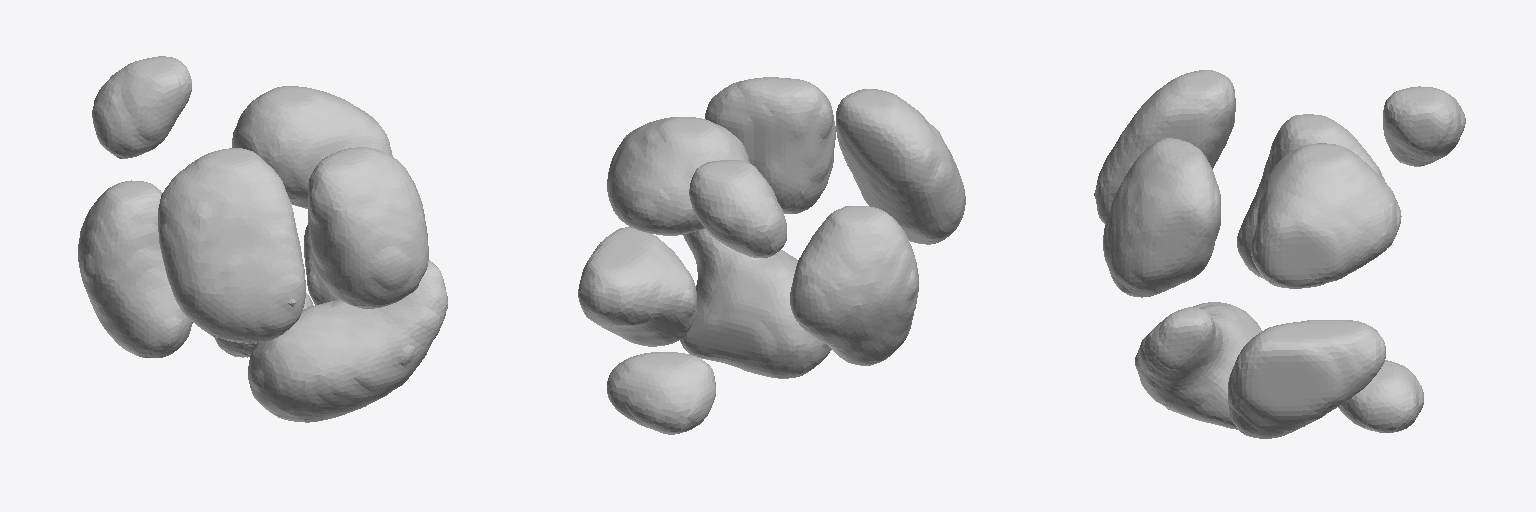
Rendered from iso-crop-mosaic_9.obj.
3 views of the same model, side by side, from view 1: azimuth 30°, elevation 25°; view 2: azimuth 150°, elevation 25°; view 3: azimuth 270°, elevation 25° (orthographic).
Visible parts, largest first — view 1: 5, 3, 2, 1, 7, 6, 4, 8; view 2: 1, 3, 5, 2, 4, 7, 8, 6; view 3: 7, 2, 4, 3, 5, 6, 8, 1.
Boxes of the visible parts, box(x1,y1,x2,y2) form: 5: box(158, 148, 305, 343); 3: box(248, 260, 447, 422); 2: box(308, 147, 428, 308); 1: box(78, 180, 192, 357); 7: box(232, 86, 392, 208); 6: box(92, 56, 191, 158); 4: box(304, 223, 338, 304); 8: box(214, 293, 313, 357); 1: box(790, 206, 918, 365); 3: box(680, 229, 831, 378); 5: box(836, 89, 965, 244); 2: box(705, 77, 835, 213); 4: box(578, 227, 696, 346); 7: box(607, 117, 749, 235); 8: box(607, 352, 715, 434); 6: box(689, 160, 786, 257); 7: box(1251, 143, 1401, 288); 2: box(1103, 138, 1220, 297); 4: box(1228, 320, 1385, 438); 3: box(1135, 302, 1261, 429); 5: box(1094, 70, 1235, 224); 6: box(1383, 86, 1465, 166); 8: box(1338, 360, 1423, 432); 1: box(1237, 114, 1384, 278).
Size of the model in its own units: 53.55 by 47.13 by 54.11.